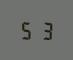five: (19, 19, 35, 39)
three: (36, 19, 52, 40)
